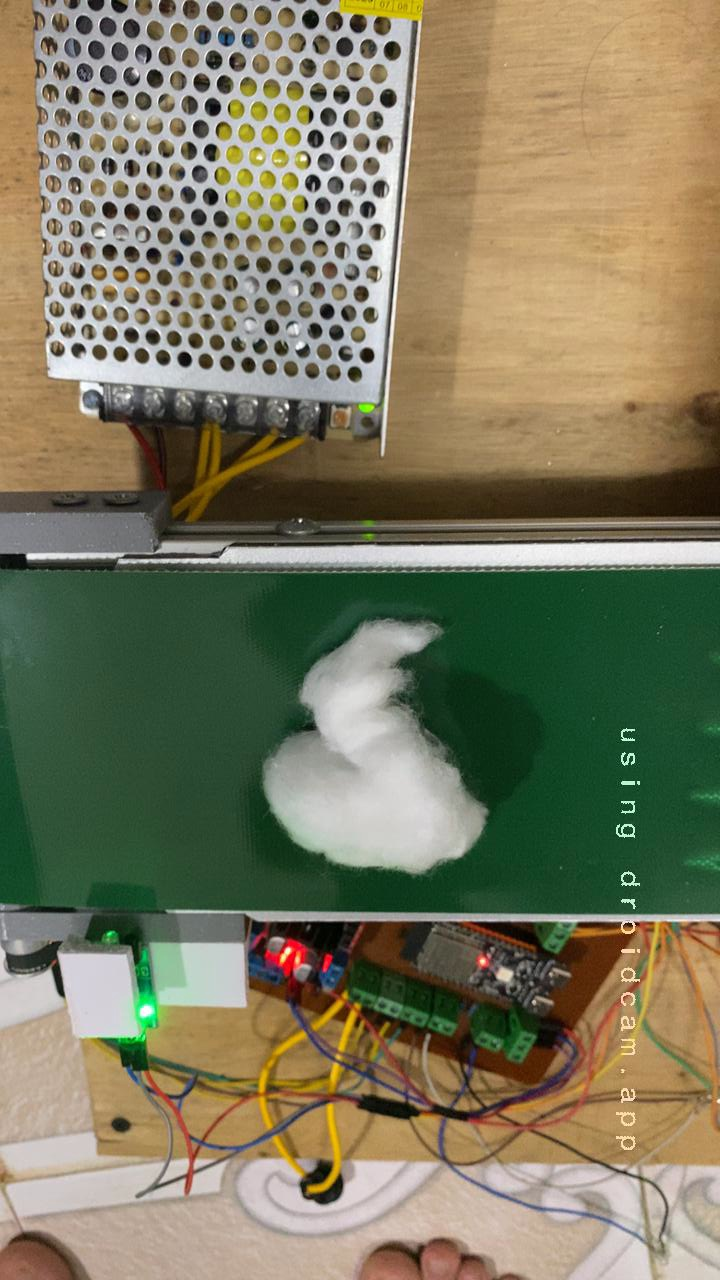cotton: (233, 601, 510, 900)
